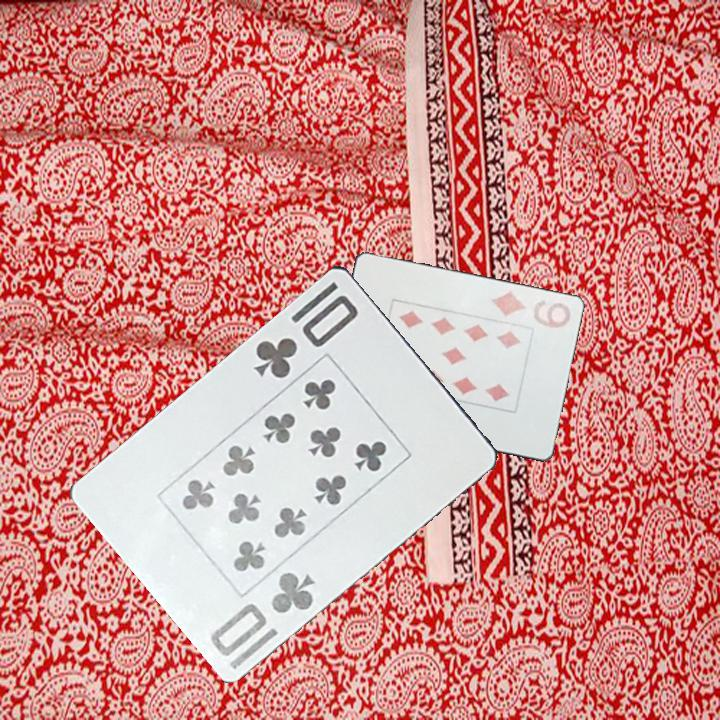9d: (487, 286, 573, 331)
Tc: (204, 567, 323, 672), (250, 290, 362, 383)
